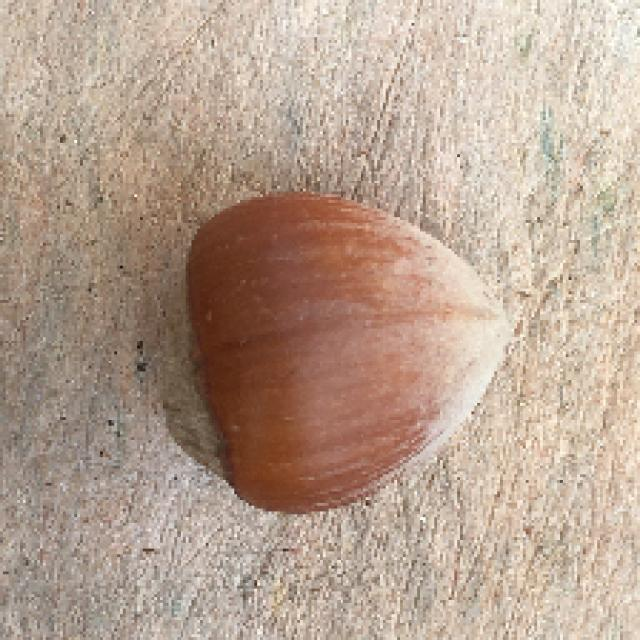QualityHazelnut: (157, 190, 520, 520)
